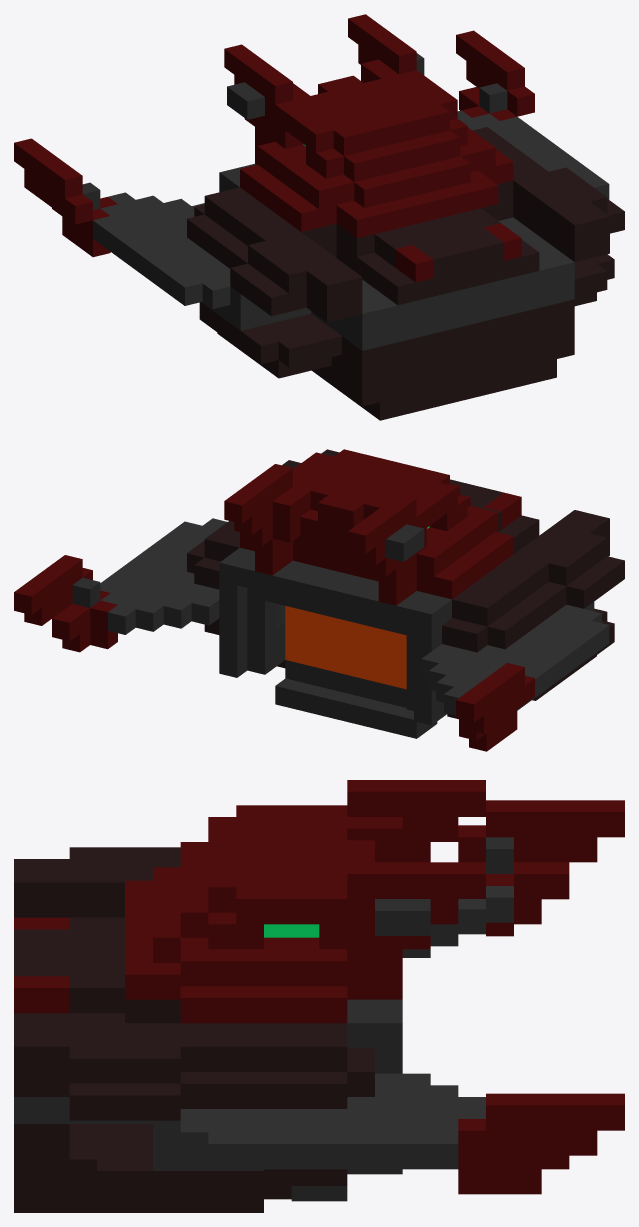
File: Extra-13-RedFighter_Engine.obj
3 views of the same model, one above another, from view 1: azimuth 30°, elevation 25°; view 2: azimuth 150°, elevation 25°; view 3: azimuth 270°, elevation 25° (orthographic). The views are drawn at different scales.
Parts seen in each view (by area): view 1: RedFighter_Engine; view 2: RedFighter_Engine; view 3: RedFighter_Engine.
Part boxes in pixels (x1=…): RedFighter_Engine: x1=14, y1=14, x2=624, y2=420; RedFighter_Engine: x1=14, y1=449, x2=624, y2=751; RedFighter_Engine: x1=14, y1=780, x2=624, y2=1212.
Bounding box in the file's own units: 2.6 × 1.3 × 2.2.
1 material, 1 textured.
